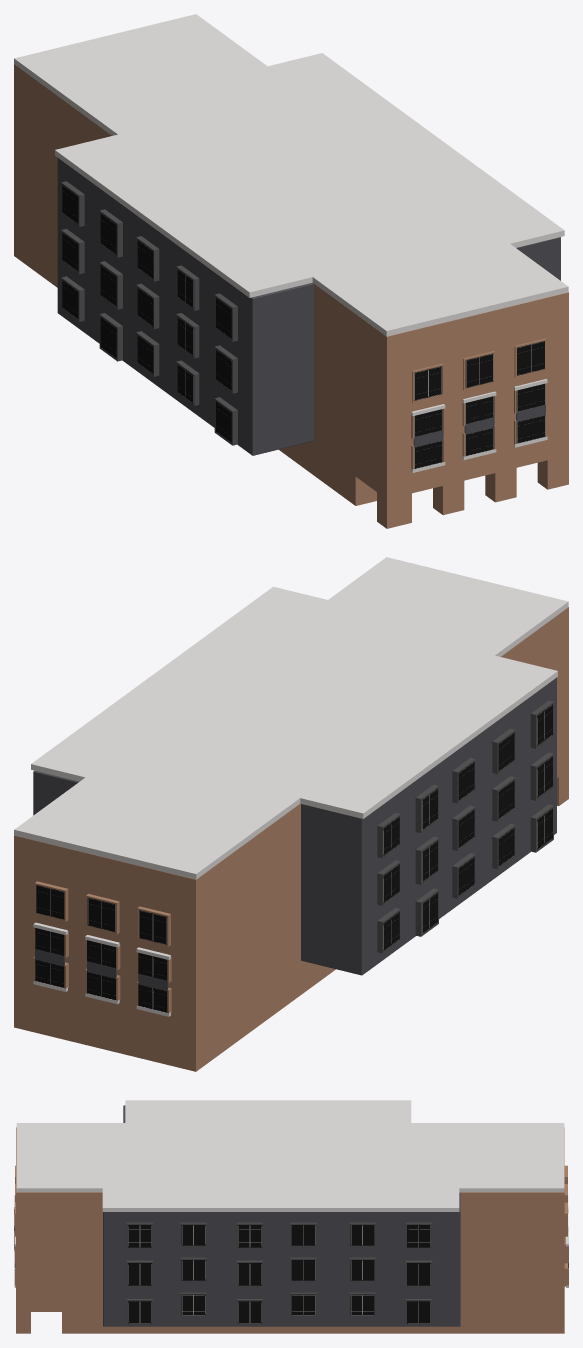
File: pearl_bakery.glb
The picture shows the model from 3 angles, top to bottom: view 1: azimuth 30°, elevation 25°; view 2: azimuth 150°, elevation 25°; view 3: azimuth 270°, elevation 25°; orthographic projection. The views are drawn at different scales.
Parts seen in each view (by area): view 1: Rectangle 2, Building, Cube 2, Cube 14 (×9), Cube; view 2: Rectangle 2, Building, Cube 2, Cube 14 (×8), Cube; view 3: Rectangle 2, Cube, Building, Cube 14 (×18).
Part boxes in pixels (x1,y1,x2,y2): Rectangle 2: [14, 14, 568, 336]; Building: [14, 64, 568, 528]; Cube 2: [57, 158, 313, 455]; Cube 14 (×9): [414, 341, 545, 468]; Cube: [516, 237, 560, 280]; Rectangle 2: [14, 557, 568, 879]; Building: [14, 607, 568, 1071]; Cube 2: [301, 677, 556, 975]; Cube 14 (×8): [35, 885, 167, 1012]; Cube: [33, 770, 79, 815]; Rectangle 2: [16, 1100, 564, 1211]; Cube: [103, 1192, 460, 1326]; Building: [16, 1127, 564, 1333]; Cube 14 (×18): [128, 1225, 430, 1323].
Size of the model in its own units: 25.06 by 15.44 by 53.45.
